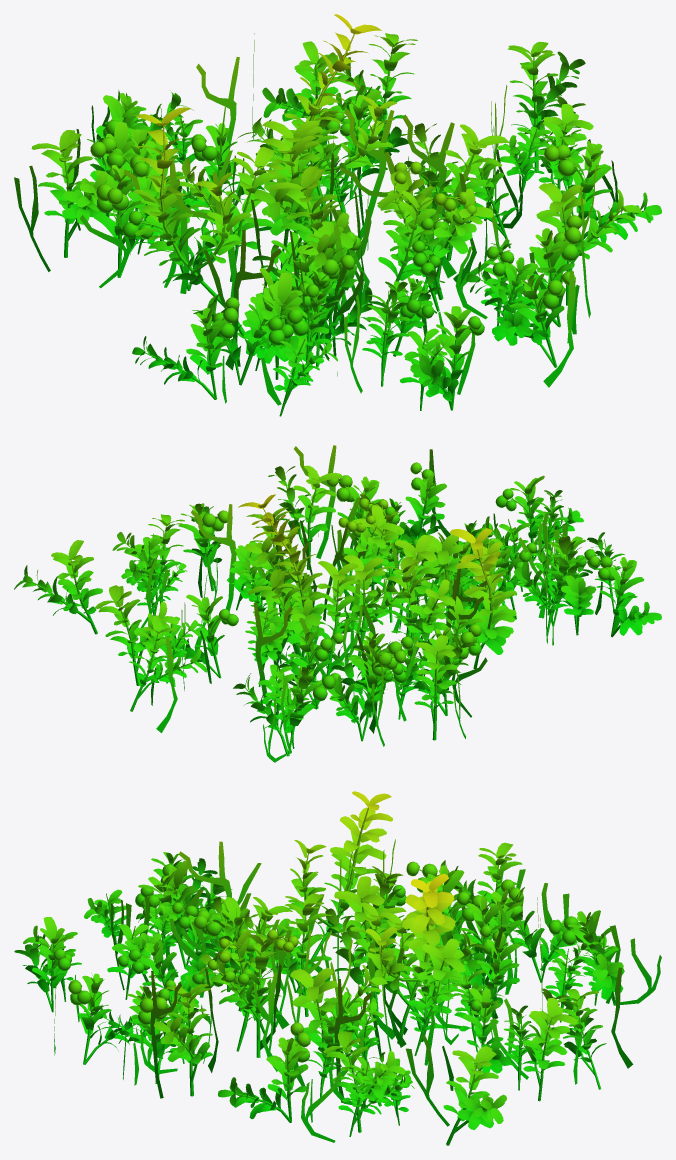
File: Lingonberry_LOD1_Var1_wjhjahlqx.fbx
3 views of the same model, one above another, from view 1: azimuth 30°, elevation 25°; view 2: azimuth 150°, elevation 25°; view 3: azimuth 270°, elevation 25° (orthographic). The views are drawn at different scales.
Visible parts, largest first — view 1: _grq5_Var1_LOD1; view 2: _grq5_Var1_LOD1; view 3: _grq5_Var1_LOD1.
Part boxes in pixels (x1=…): _grq5_Var1_LOD1: x1=14, y1=14, x2=661, y2=416; _grq5_Var1_LOD1: x1=14, y1=445, x2=661, y2=762; _grq5_Var1_LOD1: x1=14, y1=791, x2=661, y2=1145.
Size of the model in its own units: 78.58 by 26.85 by 81.06.
